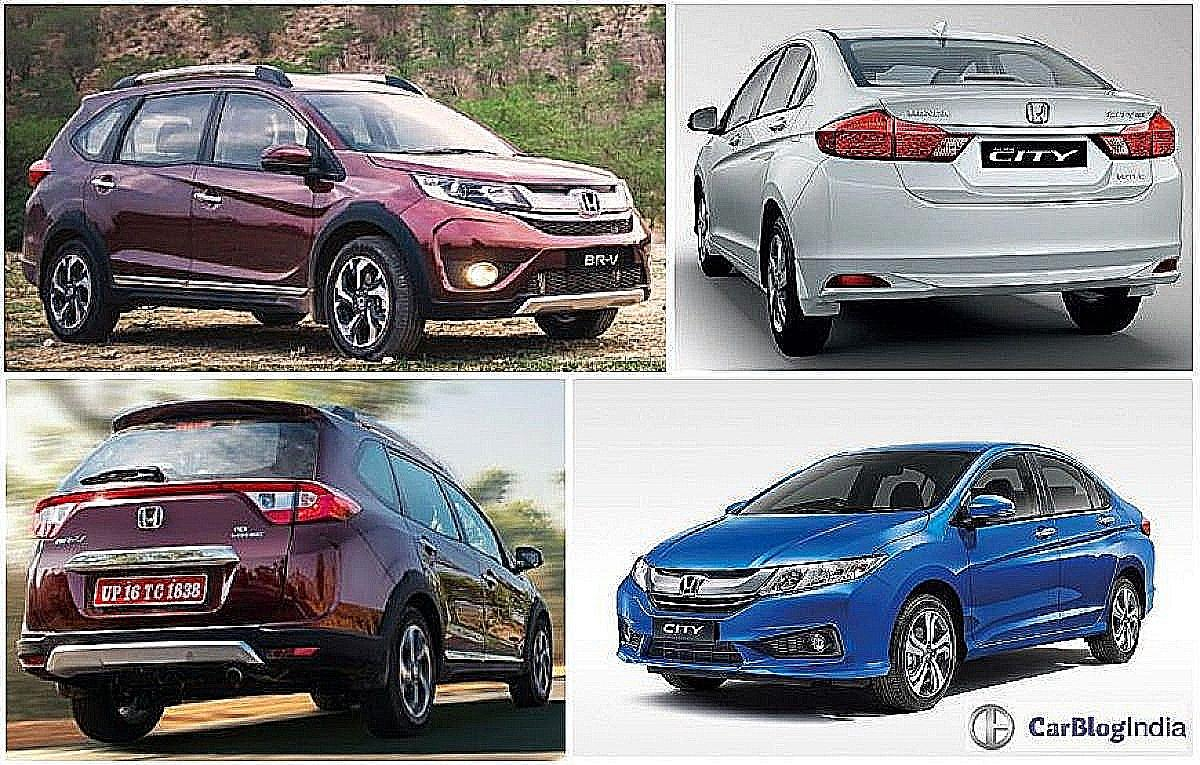Car boot: (39, 422, 287, 635), (875, 79, 1169, 206)
Car hood: (637, 509, 928, 570), (359, 144, 626, 185)
Driver-s door - -F-R-: (190, 87, 319, 297), (447, 470, 537, 667)
Fender - -F-L-: (870, 520, 987, 665)
Fender - -F-R-: (309, 137, 429, 312)
Fender - -R-L-: (757, 99, 854, 275), (1102, 508, 1150, 637)
Fender - -R-R-: (354, 503, 441, 619), (39, 154, 114, 253)
Front bumper: (389, 189, 660, 317), (604, 574, 910, 685)
Headlight - -L-: (751, 547, 896, 605), (607, 170, 643, 211)
Headlight - -R-: (409, 167, 537, 222), (624, 552, 675, 597)
Passenger-s door - -F-L-: (955, 442, 1060, 639), (714, 49, 767, 250)
Passenger-s door - -R-L-: (752, 36, 813, 276), (1039, 442, 1113, 629)
Passenger-s door - -R-R-: (82, 75, 202, 297), (385, 432, 492, 668)
Rear bumper: (4, 539, 389, 701), (782, 154, 1187, 302), (17, 200, 58, 294), (1139, 546, 1172, 615)
Rear light - -L-: (810, 92, 978, 172), (20, 489, 110, 535), (1132, 502, 1170, 546)
Rear light - -R-: (239, 464, 378, 538), (1089, 99, 1190, 165), (12, 149, 66, 190)
Side bumper - -L-: (944, 608, 1130, 671), (699, 222, 779, 299)
Side bumper - -R-: (84, 262, 311, 327), (427, 644, 532, 694)
Side mirror - -L-: (955, 484, 1026, 542), (682, 99, 736, 146)
Side mirror - -R-: (255, 135, 320, 191), (509, 525, 563, 585), (705, 494, 773, 523)
